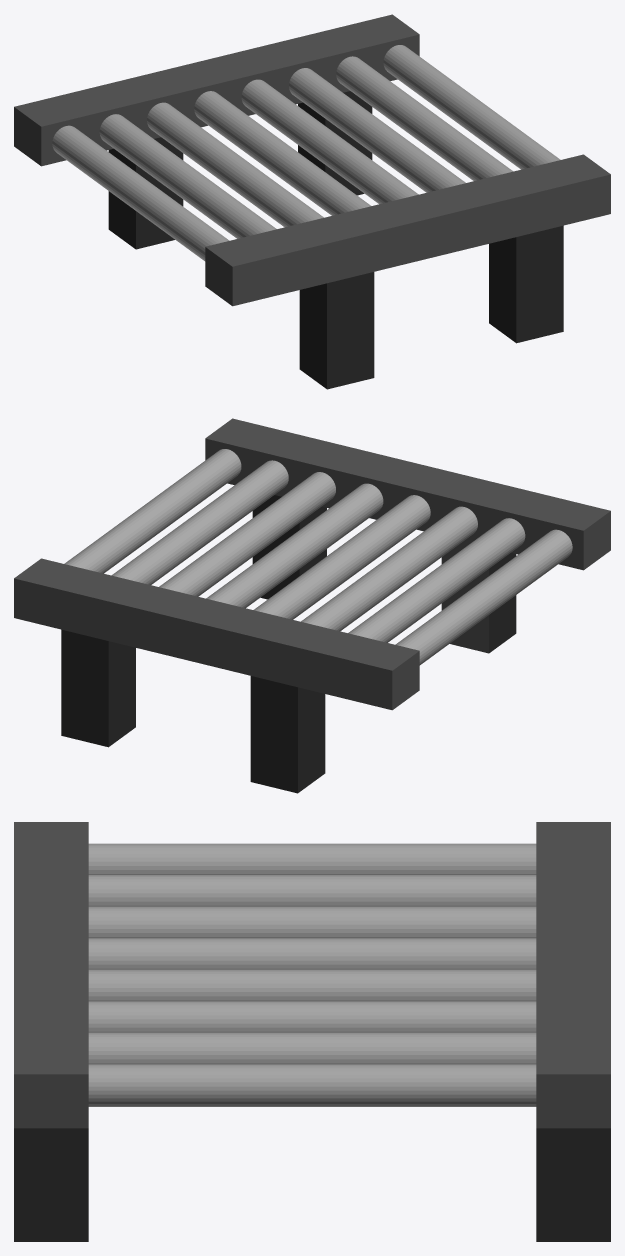
File: conveyor.fbx
3 renders of one model, top to bottom at view 1: azimuth 30°, elevation 25°; view 2: azimuth 150°, elevation 25°; view 3: azimuth 270°, elevation 25°, orthographic. The views are drawn at different scales.
Parts seen in each view (by area): view 1: Cube.001; view 2: Cube.001; view 3: Cube.001.
Boxes of the visible parts, box(x1,y1,x2,y2) form: Cube.001: box(14, 14, 610, 389); Cube.001: box(14, 418, 610, 793); Cube.001: box(14, 822, 610, 1241).
Bounding box in the file's own units: 200 × 73.63 × 200.
1 material, 1 textured.
